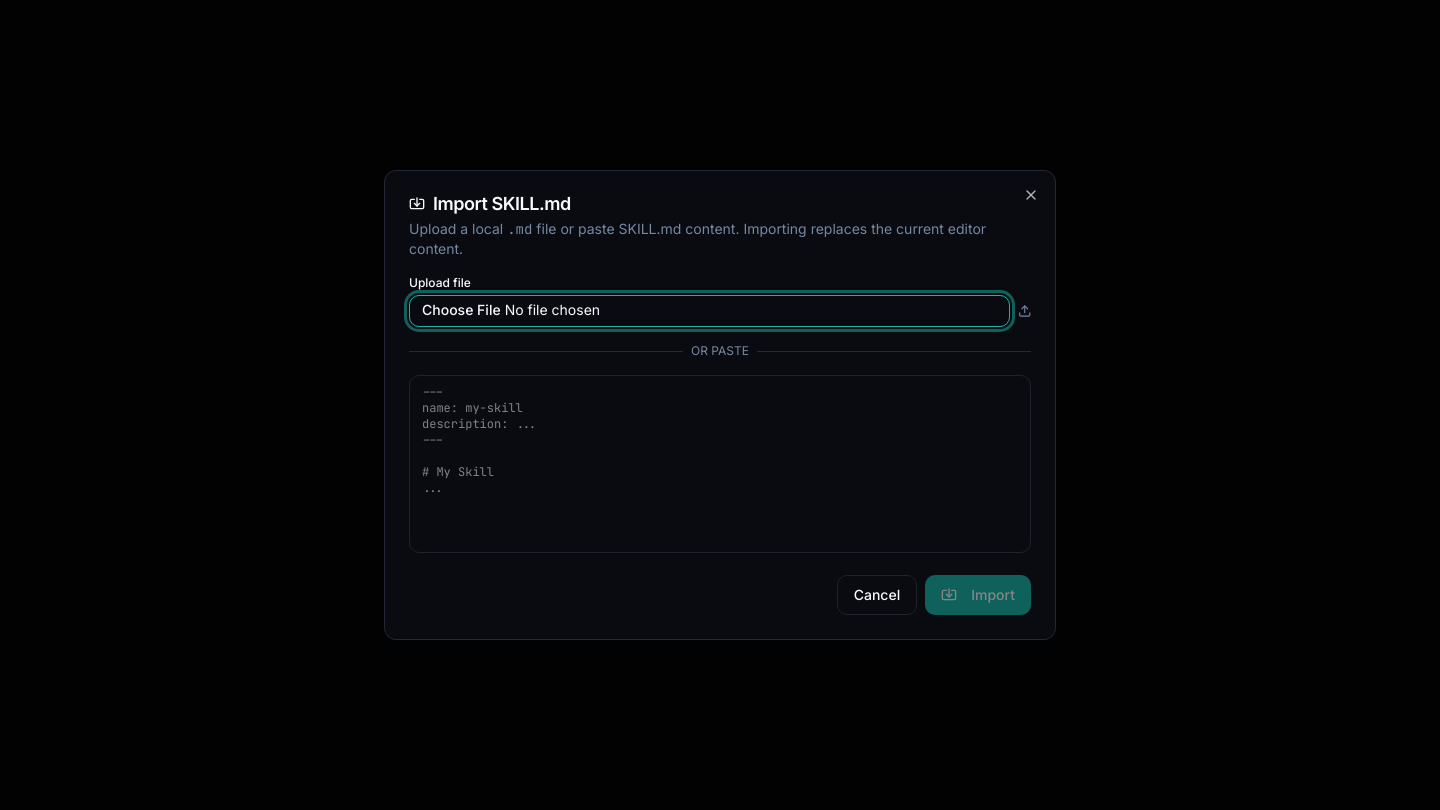
ImportSkillMdDialog › disables Import until content is non-empty
Check: the button "Import" is disabled, box [925, 575, 1031, 615]
Step 1. Type "hello" into the text box → x=720, y=464, box [409, 375, 1031, 553]
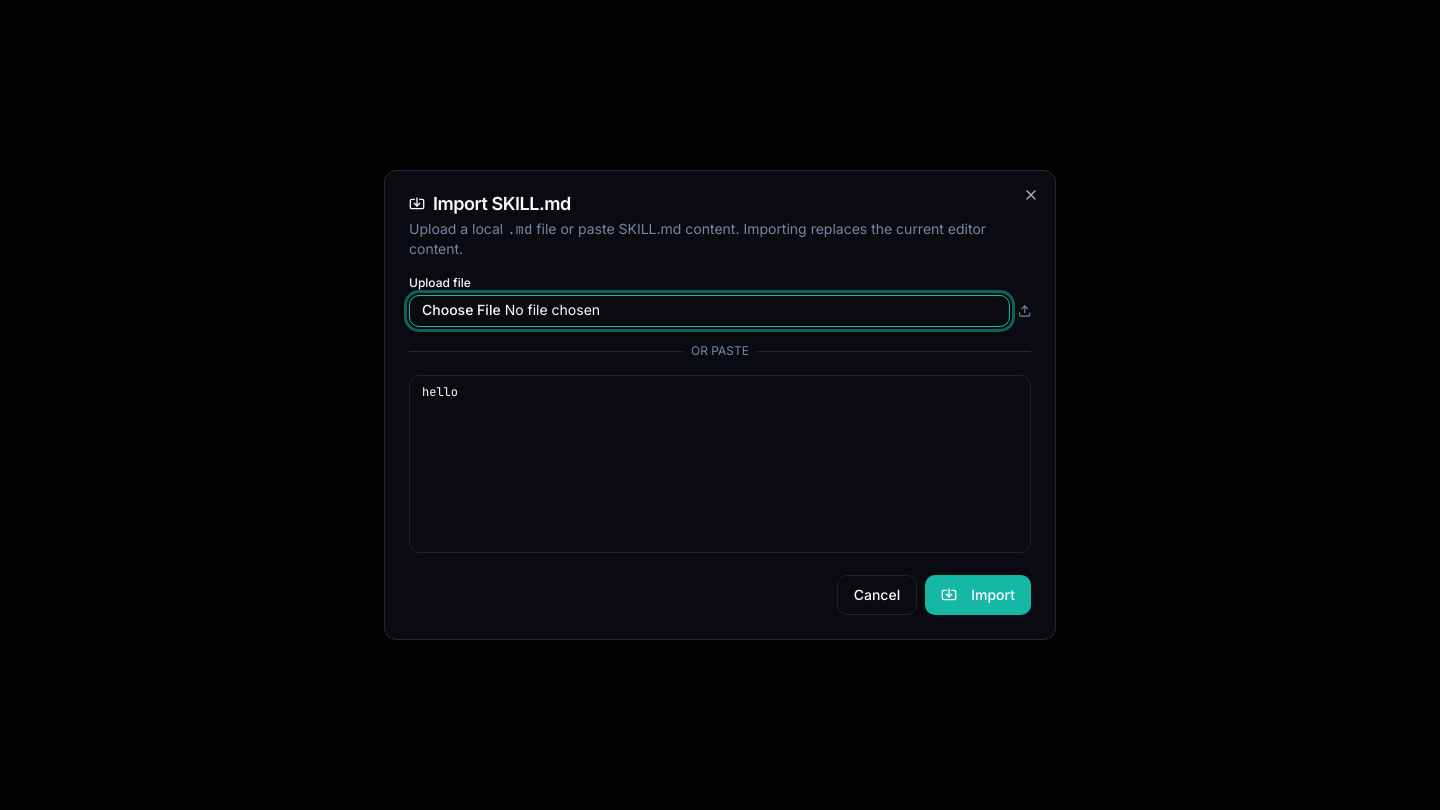
Check: the button "Import" is enabled, box [925, 575, 1031, 615]
